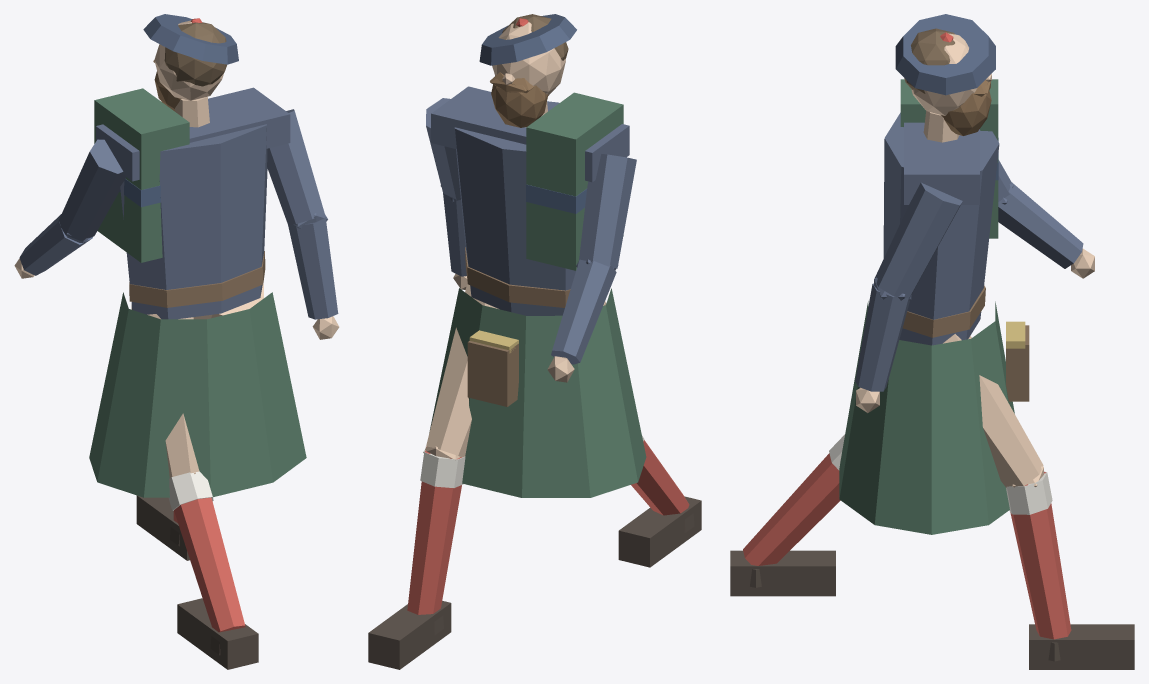
The model's file is dundonnachie_marching.glb.
3 renders of one model, left to right at view 1: azimuth 30°, elevation 25°; view 2: azimuth 150°, elevation 25°; view 3: azimuth 270°, elevation 25°, orthographic. The views are drawn at different scales.
Parts seen in each view (by area): view 1: tartan_g, wool_navy, boot, hose_red, skin, leather, bonnet_blue, hair, hose_white, tartan_b; view 2: tartan_g, wool_navy, boot, hose_red, skin, leather, bonnet_blue, beard, hose_white, tartan_b, brass, hair; view 3: tartan_g, wool_navy, hose_red, boot, skin, bonnet_blue, leather, hose_white, beard, hair.
Boxes of the visible parts, x1,y1,x2,y2 form: tartan_g: [89, 88, 306, 497]; wool_navy: [19, 87, 338, 319]; boot: [136, 495, 258, 669]; hose_red: [173, 497, 245, 632]; skin: [14, 20, 339, 477]; leather: [129, 251, 265, 309]; bonnet_blue: [143, 14, 238, 64]; hair: [164, 22, 226, 86]; hose_white: [168, 471, 213, 510]; tartan_b: [119, 179, 160, 207]; tartan_g: [429, 92, 646, 497]; wool_navy: [426, 86, 636, 364]; boot: [368, 496, 701, 669]; hose_red: [407, 440, 689, 614]; skin: [423, 22, 606, 460]; leather: [465, 247, 570, 406]; bonnet_blue: [479, 14, 576, 65]; beard: [490, 72, 548, 127]; hose_white: [420, 435, 644, 487]; tartan_b: [526, 184, 586, 213]; brass: [469, 330, 518, 353]; hair: [502, 14, 568, 60]; tartan_g: [839, 79, 1014, 534]; wool_navy: [855, 112, 1083, 391]; hose_red: [743, 453, 1071, 639]; boot: [730, 550, 1134, 669]; skin: [856, 33, 1094, 488]; bonnet_blue: [895, 14, 995, 95]; leather: [902, 285, 1029, 401]; hose_white: [829, 434, 1052, 514]; beard: [941, 80, 991, 135]; hair: [904, 28, 954, 93].
Size of the model in its own units: 0.7053 by 1.78 by 1.08.
